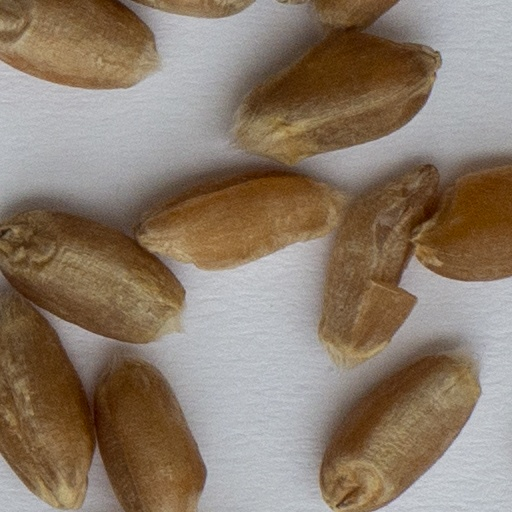Wheat-grain-damaged-poly: (316, 163, 440, 367)
